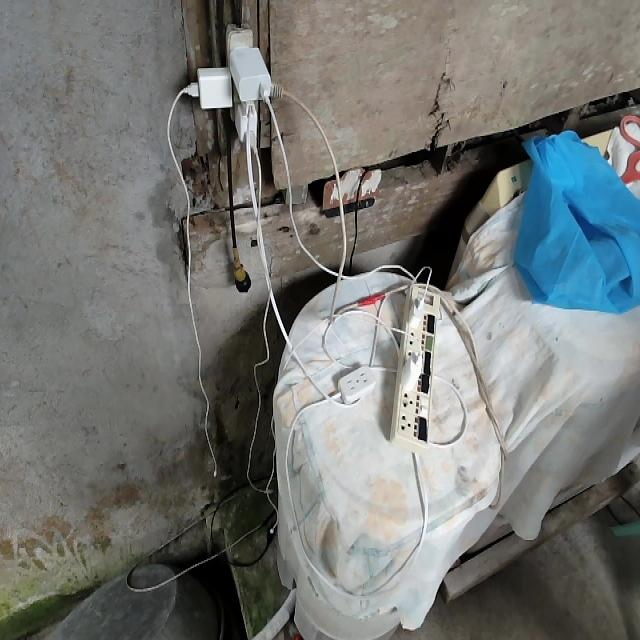-: (182, 22, 281, 154)
